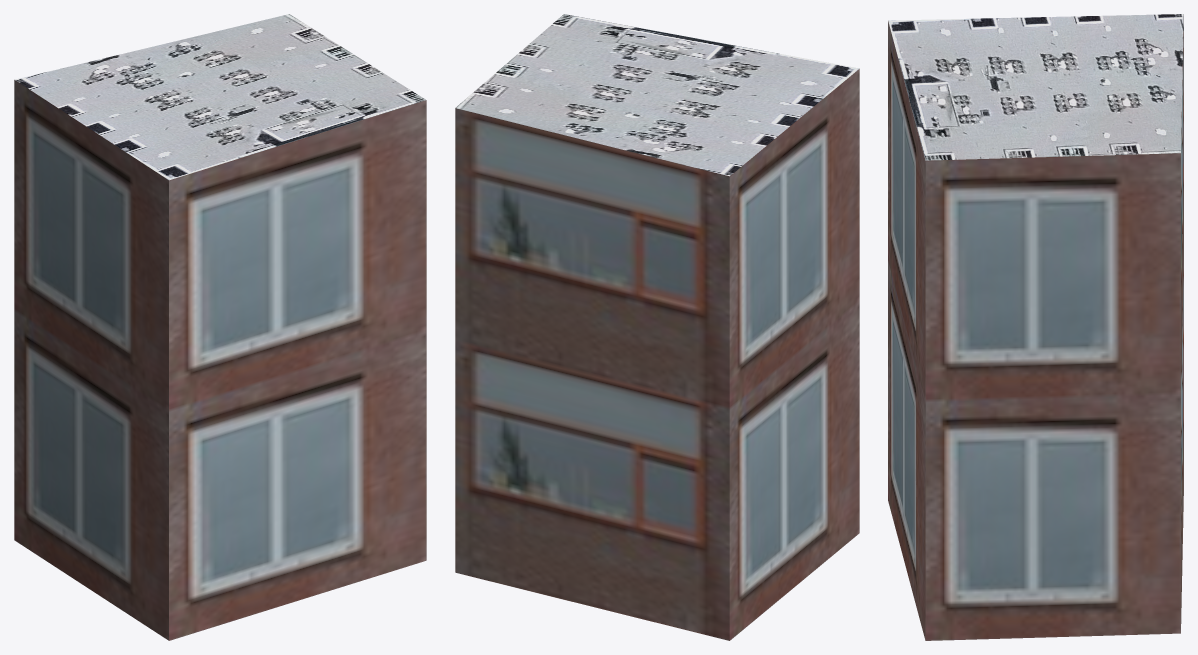
Rendered from ResTex__2580.fbx.
3 renders of one model, left to right at view 1: azimuth 30°, elevation 25°; view 2: azimuth 150°, elevation 25°; view 3: azimuth 270°, elevation 25°, orthographic. The views are drawn at different scales.
Parts seen in each view (by area): view 1: CityEngineMaterial_19_m, CityEngineMaterial_15_m; view 2: CityEngineMaterial_19_m, CityEngineMaterial_15_m; view 3: CityEngineMaterial_19_m, CityEngineMaterial_15_m.
Part boxes in pixels (x1,y1,x2,y2): CityEngineMaterial_19_m: [14, 80, 426, 640]; CityEngineMaterial_15_m: [15, 14, 425, 180]; CityEngineMaterial_19_m: [455, 69, 859, 640]; CityEngineMaterial_15_m: [455, 14, 859, 176]; CityEngineMaterial_19_m: [888, 16, 1183, 640]; CityEngineMaterial_15_m: [888, 14, 1183, 160].
Bounding box in the file's own units: 3.93 × 6 × 3.35.
2 materials, 2 textured.
